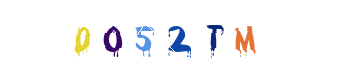0: (109, 0, 189, 80)
2: (130, 0, 210, 80)
5: (114, 0, 194, 80)
D: (62, 0, 142, 80)
M: (205, 0, 285, 80)
T: (140, 0, 220, 80)
